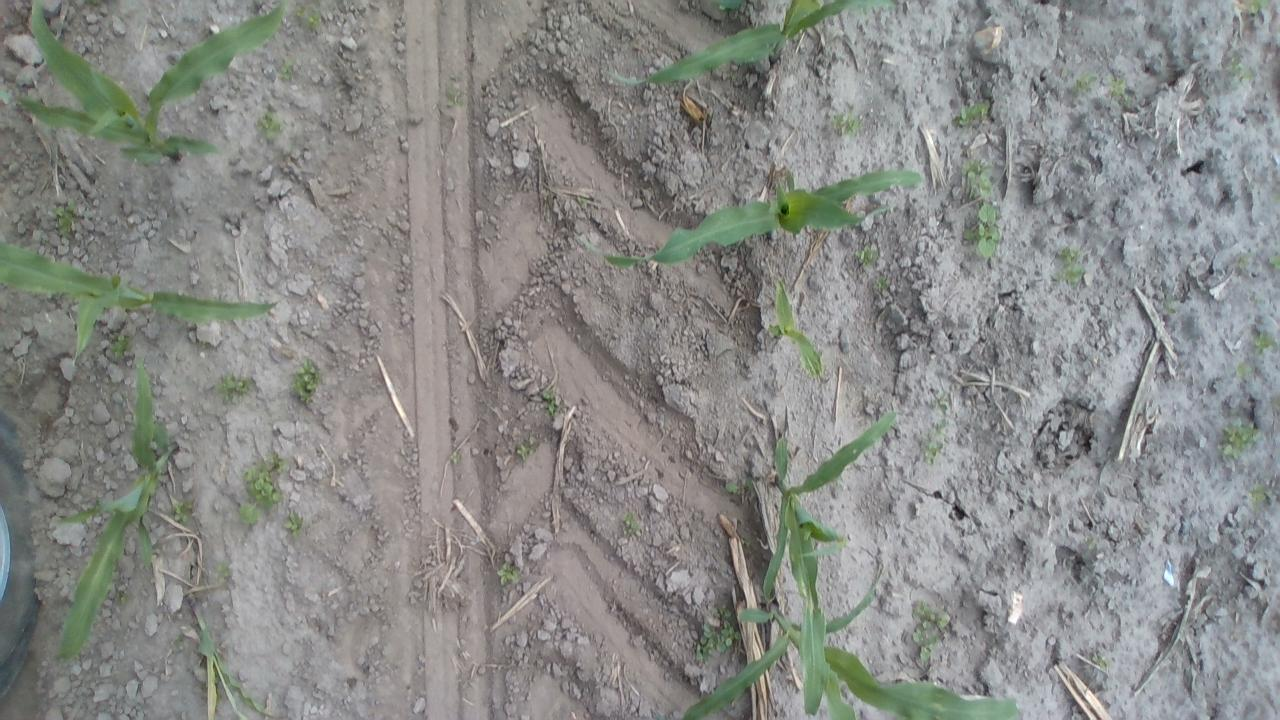Maize: (668, 559, 1024, 720), (8, 0, 288, 162), (756, 407, 904, 683), (49, 350, 178, 664), (570, 155, 928, 268), (2, 236, 282, 359), (603, 0, 895, 97), (184, 606, 282, 720), (766, 276, 824, 381)
Weeds: (236, 454, 282, 527), (691, 604, 740, 663), (910, 600, 950, 666), (964, 200, 1004, 258), (1216, 417, 1262, 461), (960, 157, 999, 203), (288, 354, 322, 406), (918, 417, 954, 466), (1049, 243, 1089, 286), (212, 370, 255, 406), (950, 96, 991, 132), (828, 106, 864, 140), (1222, 52, 1256, 87), (253, 108, 286, 142), (51, 198, 79, 238), (167, 497, 200, 527), (105, 330, 134, 360), (1104, 74, 1134, 102), (1159, 288, 1187, 318), (292, 5, 322, 32), (1066, 71, 1098, 96), (541, 384, 563, 420), (1246, 481, 1270, 510), (442, 82, 468, 108), (494, 562, 522, 586), (274, 55, 298, 83), (724, 476, 754, 498), (856, 243, 881, 269), (621, 510, 644, 538), (284, 511, 306, 540), (513, 437, 538, 462), (1252, 328, 1276, 354), (1090, 652, 1117, 675), (1238, 0, 1270, 18), (930, 390, 955, 413), (1234, 359, 1256, 381), (1234, 250, 1254, 274), (213, 560, 234, 581), (264, 450, 284, 472), (872, 274, 892, 295), (1265, 252, 1280, 276), (448, 448, 465, 468), (112, 588, 130, 606), (1082, 534, 1098, 554), (574, 195, 590, 214), (172, 631, 186, 649), (740, 534, 752, 550), (1273, 392, 1280, 413), (90, 0, 106, 9)
